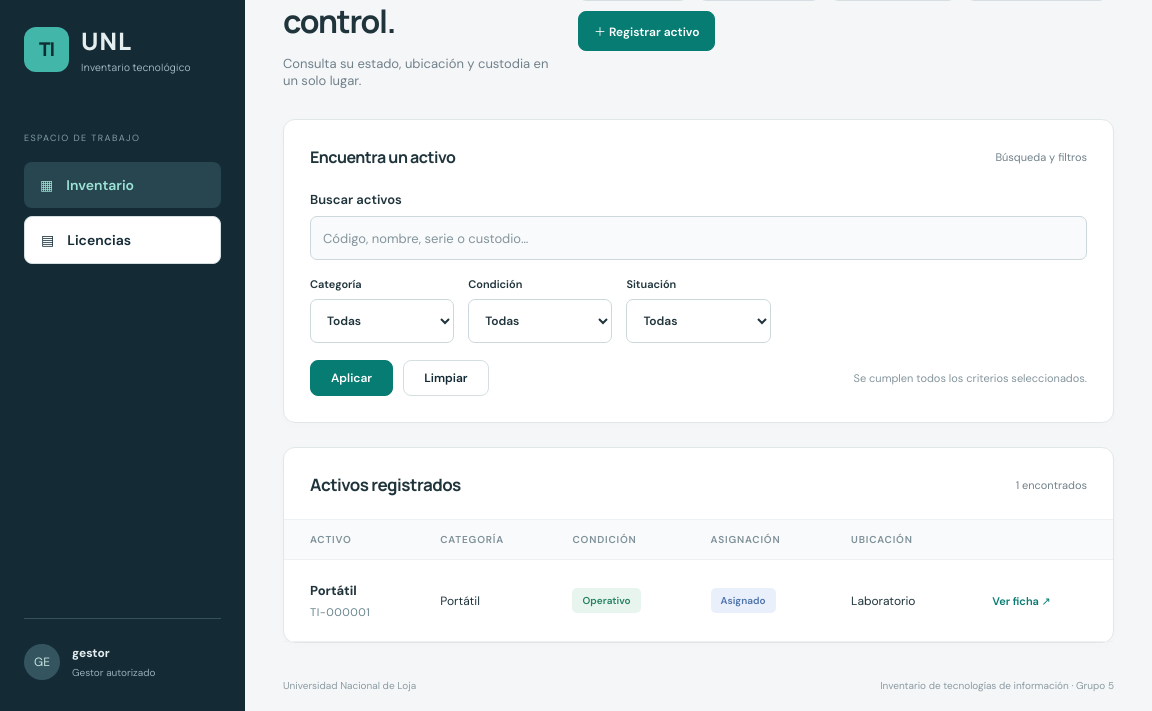
Test: un conflicto recarga la ficha sin reenviar la novedad
The image size is (1152, 711).
(page scrolled)
Step 1. Click the button with aria-label "Ver ficha de TI-000001" → [1022, 600], box [984,586,1059,616]
(page scrolled)
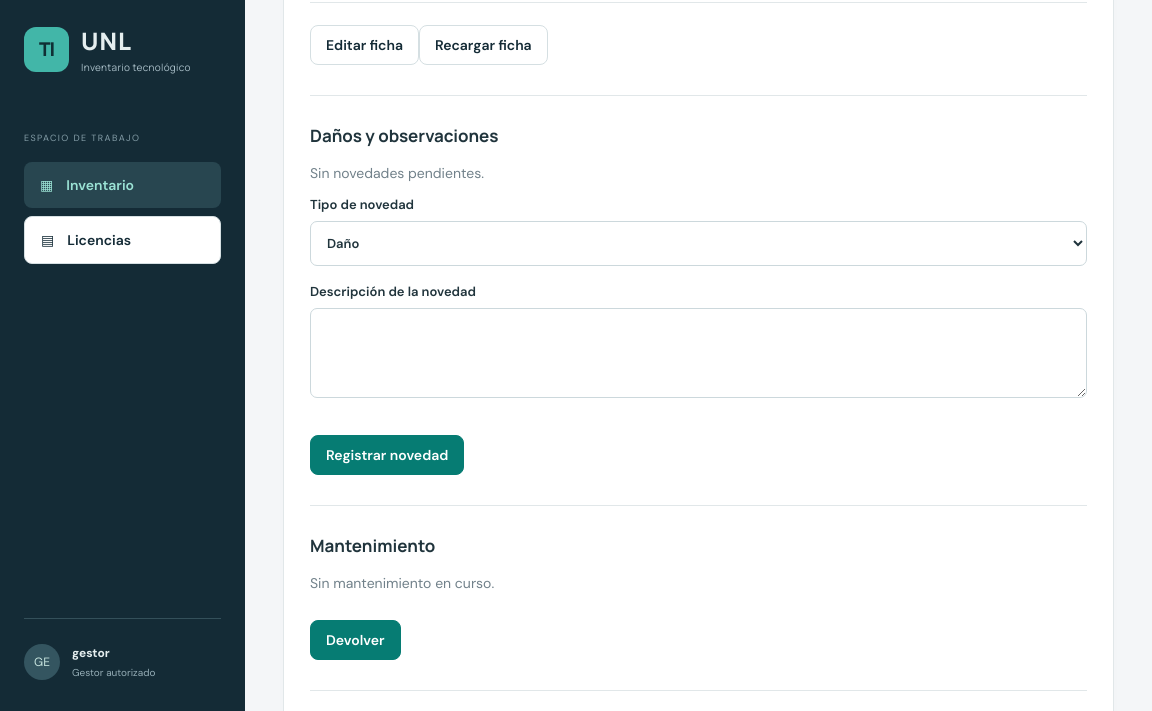
Step 2. Type "Bisagra suelta" into the text box labelled "Descripción de la novedad" → [698, 353], box [310,308,1087,398]
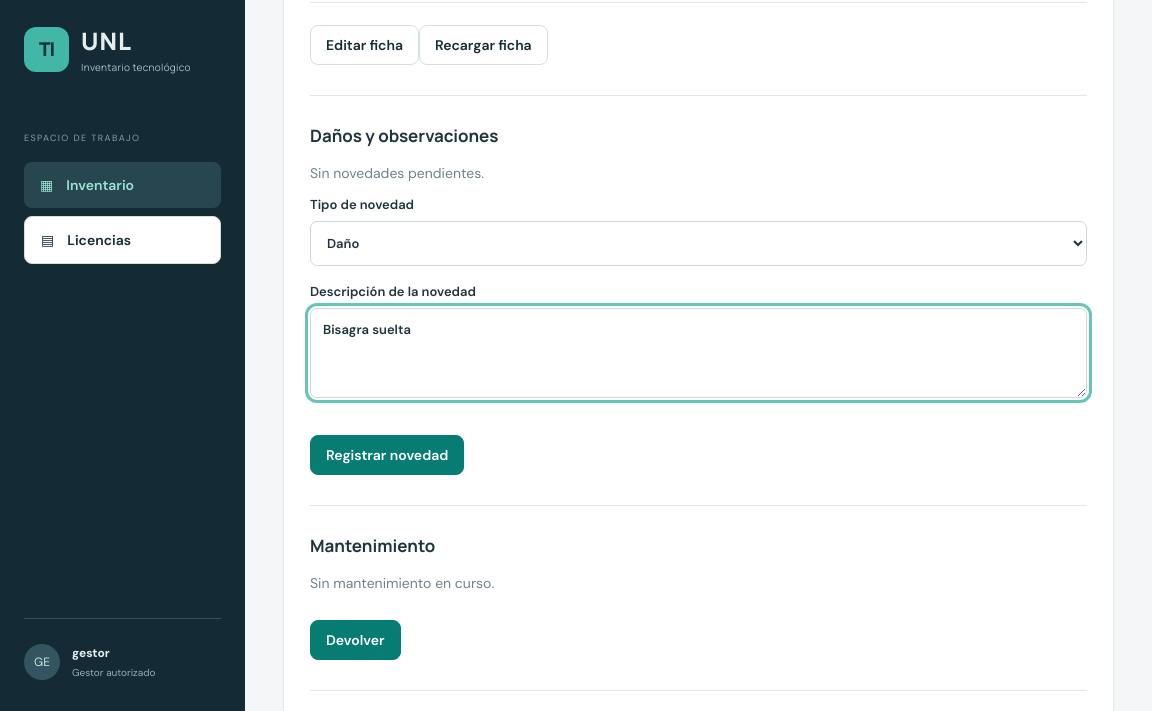
Step 3. Click the button "Registrar novedad" → [387, 455], box [310,435,464,475]
(page scrolled)
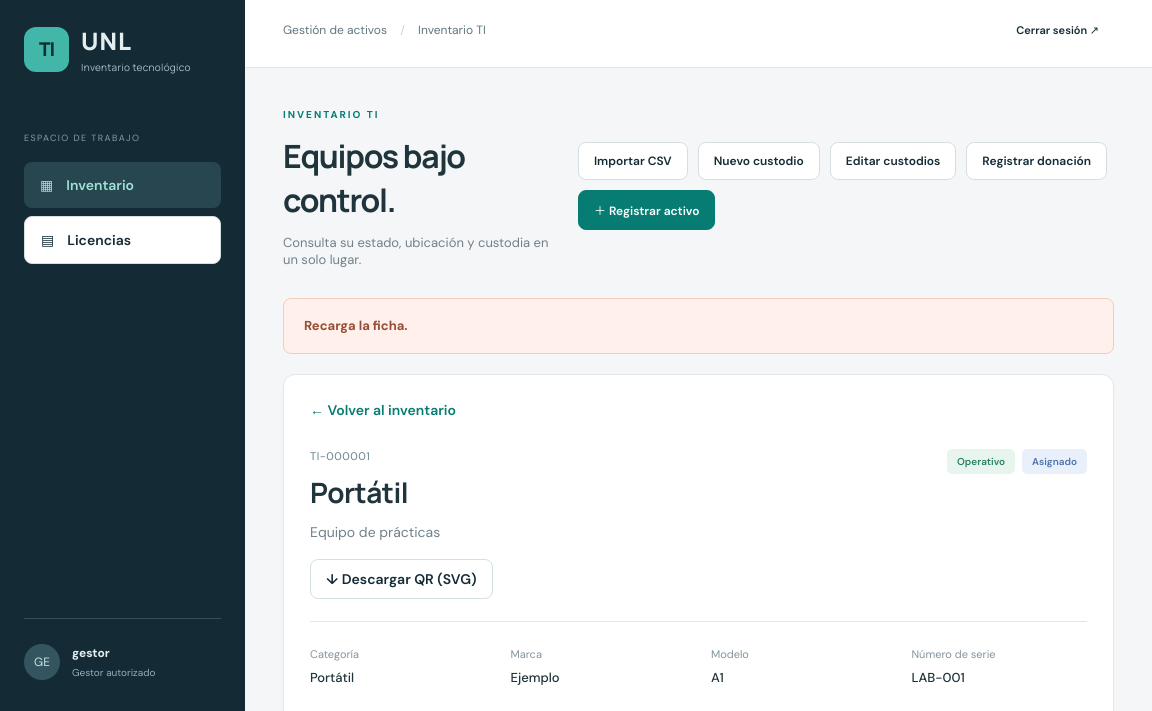
Now the text "Recarga la ficha." is shown, box [304,317,408,334]
